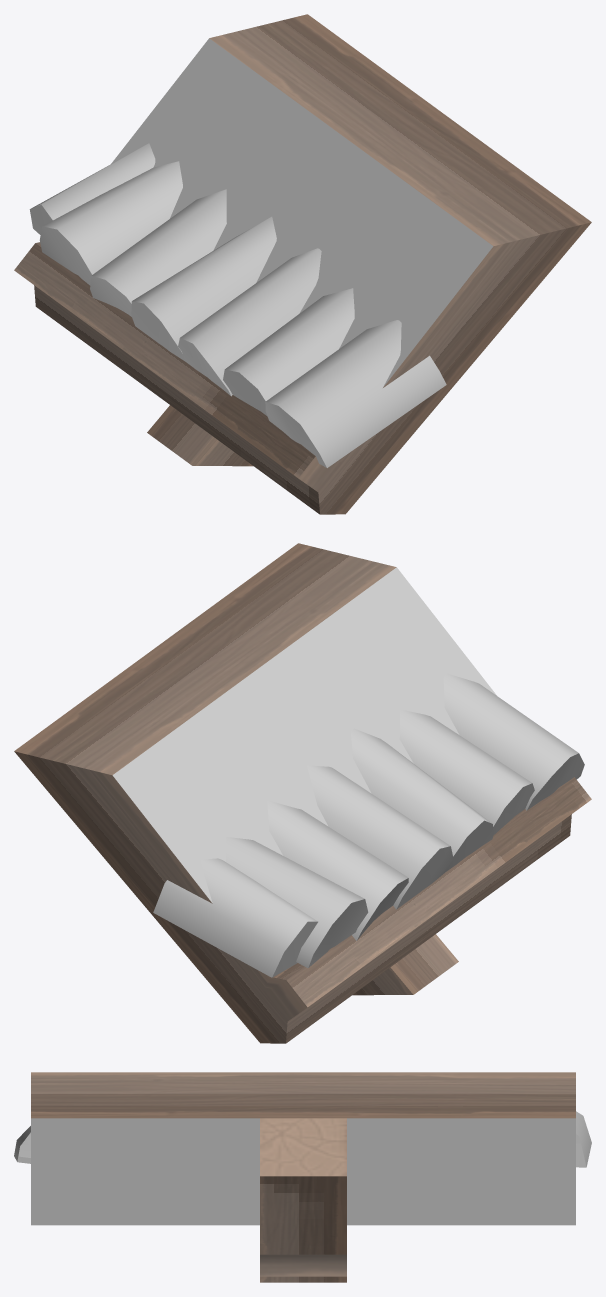
Rendered from SM_HouseRoof_Overhang_02.fbx.
The picture shows the model from 3 angles, top to bottom: view 1: azimuth 30°, elevation 25°; view 2: azimuth 150°, elevation 25°; view 3: azimuth 270°, elevation 25°; orthographic projection. The views are drawn at different scales.
Parts seen in each view (by area): view 1: SM_HouseRoof_Overhang_02_LOD0; view 2: SM_HouseRoof_Overhang_02_LOD0; view 3: SM_HouseRoof_Overhang_02_LOD0.
Boxes of the visible parts, box(x1,y1,x2,y2) form: SM_HouseRoof_Overhang_02_LOD0: box(14, 14, 591, 514); SM_HouseRoof_Overhang_02_LOD0: box(14, 543, 591, 1043); SM_HouseRoof_Overhang_02_LOD0: box(14, 1072, 591, 1282).
Size of what is drawn, in the model's own units: 1.7 by 1.35 by 2.65.
